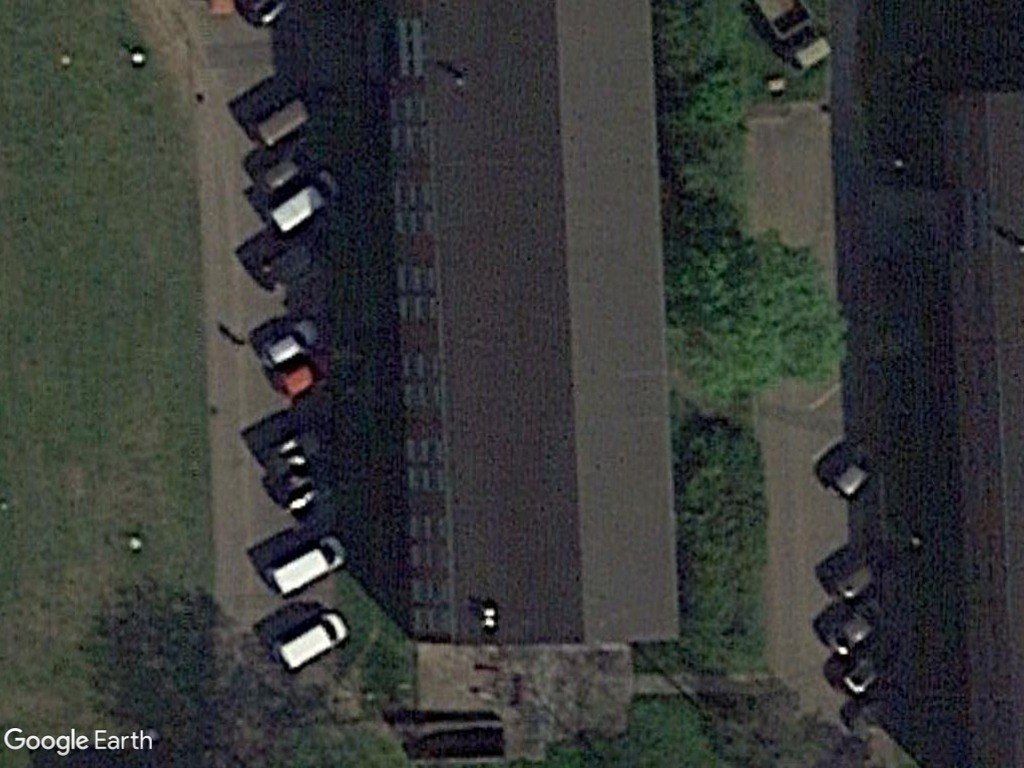car: (252, 306, 326, 381)
van: (260, 534, 352, 604), (265, 167, 347, 240), (271, 607, 352, 674)
